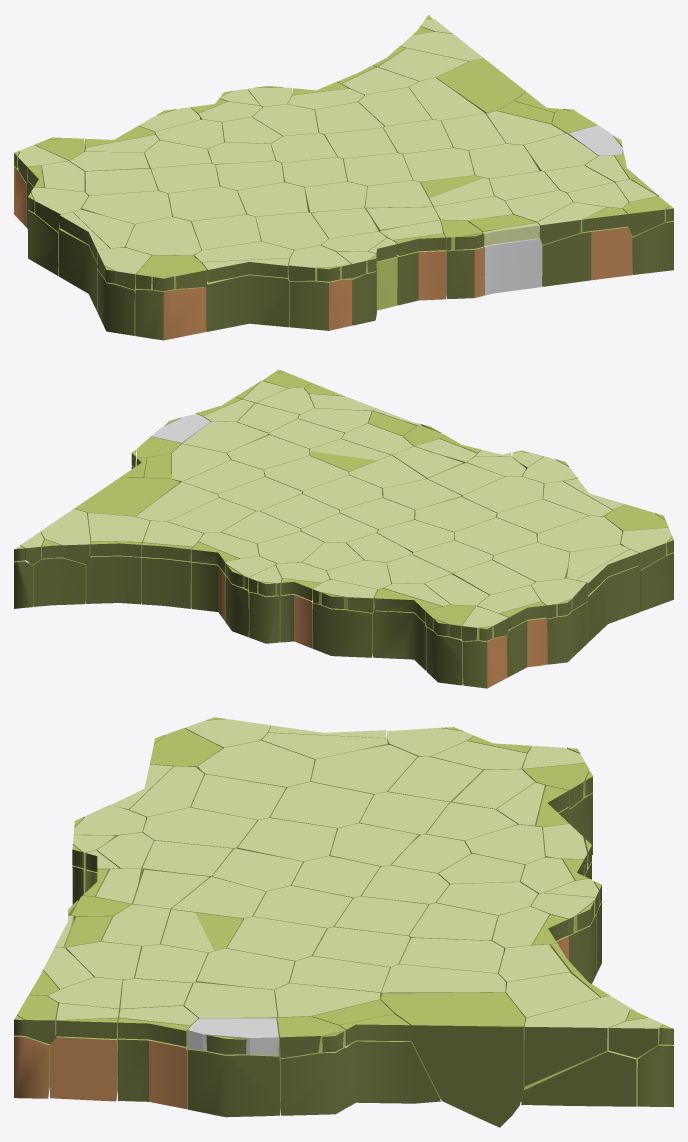
Rendered from Island2_big.fbx.
3 renders of one model, top to bottom at view 1: azimuth 30°, elevation 25°; view 2: azimuth 150°, elevation 25°; view 3: azimuth 270°, elevation 25°, orthographic. The views are drawn at different scales.
Parts seen in each view (by area): view 1: Island2.Big_cell.120, Island2.Big_cell.185, Island2.Big_cell.172, Island2.Big_cell.179, Island2.Big_cell, Island2.Big_cell.065, Island2.Big_cell.069, Island2.Big_cell.136, Island2.Big_cell.125, Island2.Big_cell.199, Island2.Big_cell.117, Island2.Big_cell.091 (+76 smaller); view 2: Island2.Big_cell.162, Island2.Big_cell.094, Island2.Big_cell.091, Island2.Big_cell.131, Island2.Big_cell.065, Island2.Big_cell.079, Island2.Big_cell.056, Island2.Big_cell.136, Island2.Big_cell.125, Island2.Big_cell.169, Island2.Big_cell.199, Island2.Big_cell.044 (+80 smaller); view 3: Island2.Big_cell.065, Island2.Big_cell.064, Island2.Big_cell.010, Island2.Big_cell.154, Island2.Big_cell.079, Island2.Big_cell.031, Island2.Big_cell.005, Island2.Big_cell.173, Island2.Big_cell.136, Island2.Big_cell.125, Island2.Big_cell.199, Island2.Big_cell.117 (+76 smaller).
Part boxes in pixels (<box>): Island2.Big_cell.120: <box>542,226,632,286</box>; Island2.Big_cell.185: <box>204,274,290,331</box>; Island2.Big_cell.172: <box>135,287,206,340</box>; Island2.Big_cell.179: <box>289,278,352,330</box>; Island2.Big_cell: <box>483,238,542,295</box>; Island2.Big_cell.065: <box>436,58,525,114</box>; Island2.Big_cell.069: <box>396,250,446,305</box>; Island2.Big_cell.136: <box>125,217,201,256</box>; Island2.Big_cell.125: <box>81,191,171,224</box>; Island2.Big_cell.199: <box>168,186,246,223</box>; Island2.Big_cell.117: <box>256,212,328,251</box>; Island2.Big_cell.091: <box>58,229,97,311</box>; Island2.Big_cell.162: <box>313,603,374,657</box>; Island2.Big_cell.094: <box>85,555,141,604</box>; Island2.Big_cell.091: <box>587,565,640,642</box>; Island2.Big_cell.131: <box>373,610,426,670</box>; Island2.Big_cell.065: <box>74,478,179,517</box>; Island2.Big_cell.079: <box>29,557,85,606</box>; Island2.Big_cell.056: <box>142,557,191,608</box>; Island2.Big_cell.136: <box>537,516,622,555</box>; Island2.Big_cell.125: <box>493,542,569,582</box>; Island2.Big_cell.169: <box>463,635,507,688</box>; Island2.Big_cell.199: <box>454,517,536,557</box>; Island2.Big_cell.044: <box>503,617,547,677</box>; Island2.Big_cell.065: <box>381,992,525,1127</box>; Island2.Big_cell.064: <box>187,1049,280,1117</box>; Island2.Big_cell.010: <box>524,996,630,1086</box>; Island2.Big_cell.154: <box>343,1040,440,1108</box>; Island2.Big_cell.079: <box>521,1049,648,1106</box>; Island2.Big_cell.031: <box>117,1038,188,1109</box>; Island2.Big_cell.005: <box>50,1034,117,1101</box>; Island2.Big_cell.173: <box>278,1048,345,1115</box>; Island2.Big_cell.136: <box>197,740,314,789</box>; Island2.Big_cell.125: <box>311,745,417,795</box>; Island2.Big_cell.199: <box>270,782,373,831</box>; Island2.Big_cell.117: <box>143,807,257,849</box>.
Size of the model in its own units: 138 by 20.31 by 120.
